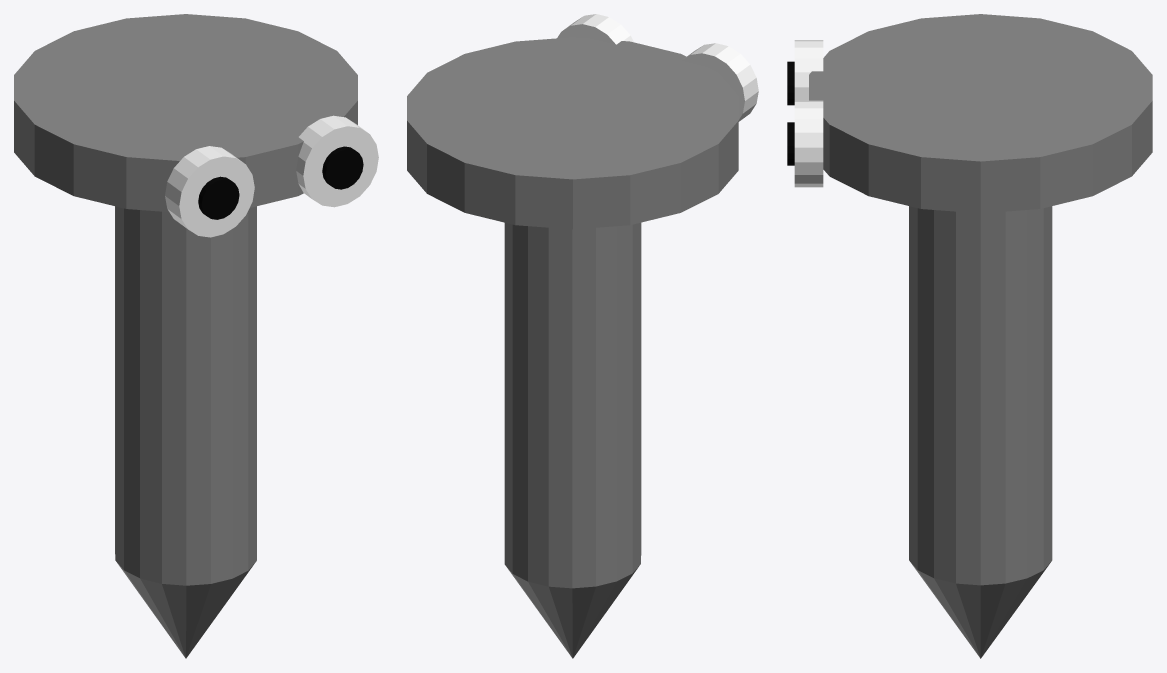
Rendered from Nail.fbx.
3 renders of one model, left to right at view 1: azimuth 30°, elevation 25°; view 2: azimuth 150°, elevation 25°; view 3: azimuth 270°, elevation 25°, orthographic. The views are drawn at different scales.
Visible parts, largest first — view 1: nail body, nail head, pupil, pupil_1, nail tip, iris_1, iris; view 2: nail head, nail body, nail tip, pupil, pupil_1; view 3: nail head, nail body, nail tip, pupil_1, pupil.
Part boxes in pixels (<box>): nail body: <box>115,206,256,585</box>; nail head: <box>14,14,357,211</box>; pupil: <box>165,146,254,237</box>; pupil_1: <box>296,115,378,207</box>; nail tip: <box>116,561,256,658</box>; iris_1: <box>322,146,363,189</box>; iris: <box>198,176,239,219</box>; nail head: <box>407,37,738,229</box>; nail body: <box>504,222,641,588</box>; nail tip: <box>505,564,640,658</box>; pupil: <box>682,43,758,121</box>; pupil_1: <box>557,14,633,44</box>; nail head: <box>809,14,1152,213</box>; nail body: <box>909,206,1052,585</box>; nail tip: <box>910,561,1051,658</box>; pupil_1: <box>794,100,823,187</box>; pupil: <box>794,40,823,100</box>.
Size of the model in its own units: 76.16 by 141 by 79.69.
5 materials, 5 textured.
